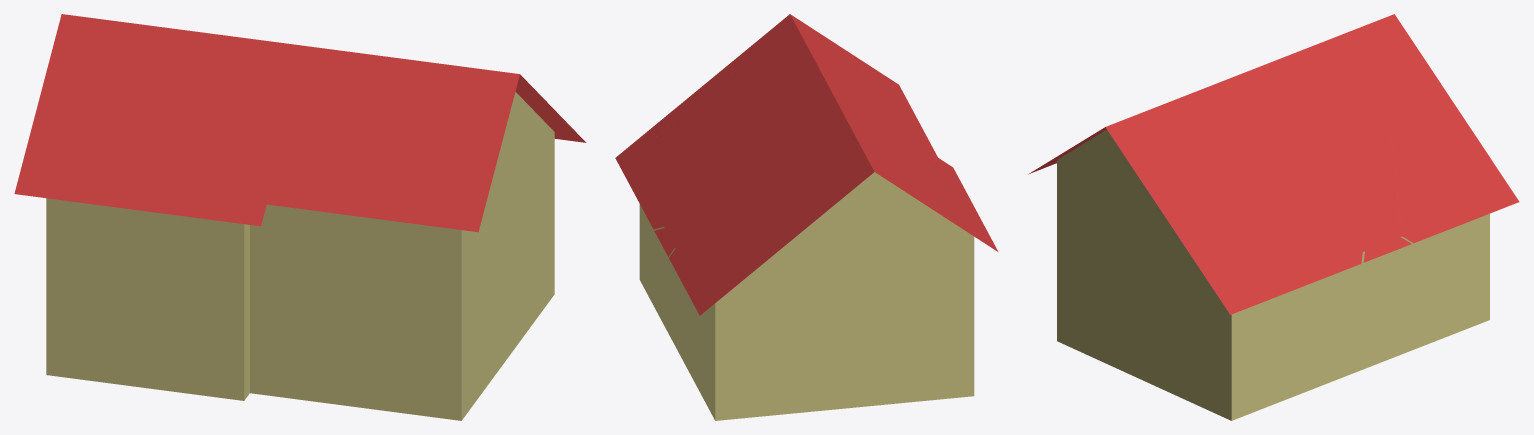
The picture shows the model from 3 angles, left to right: view 1: azimuth 30°, elevation 25°; view 2: azimuth 150°, elevation 25°; view 3: azimuth 270°, elevation 25°; orthographic projection. The views are drawn at different scales.
Bounding box in the file's own units: 23.7 × 23.39 × 13.08.
